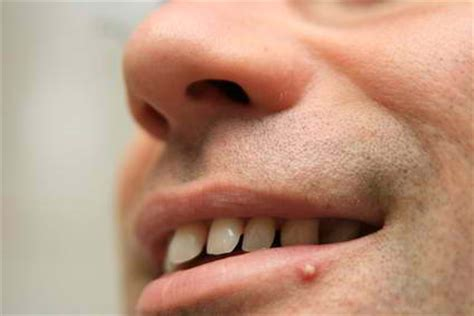Cold Sore: (295, 258, 326, 287)
